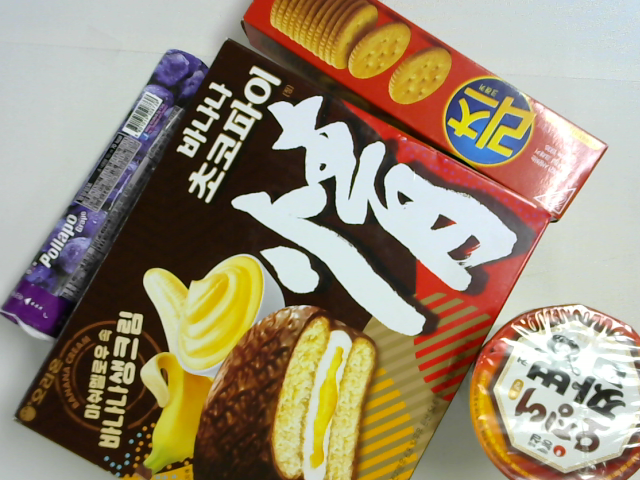Choco_Pie_Banana: (16, 41, 550, 479)
Ojjam: (463, 305, 640, 480)
Polapo_Grape: (1, 46, 206, 342)
Ritz_Cracker: (238, 1, 608, 225)
